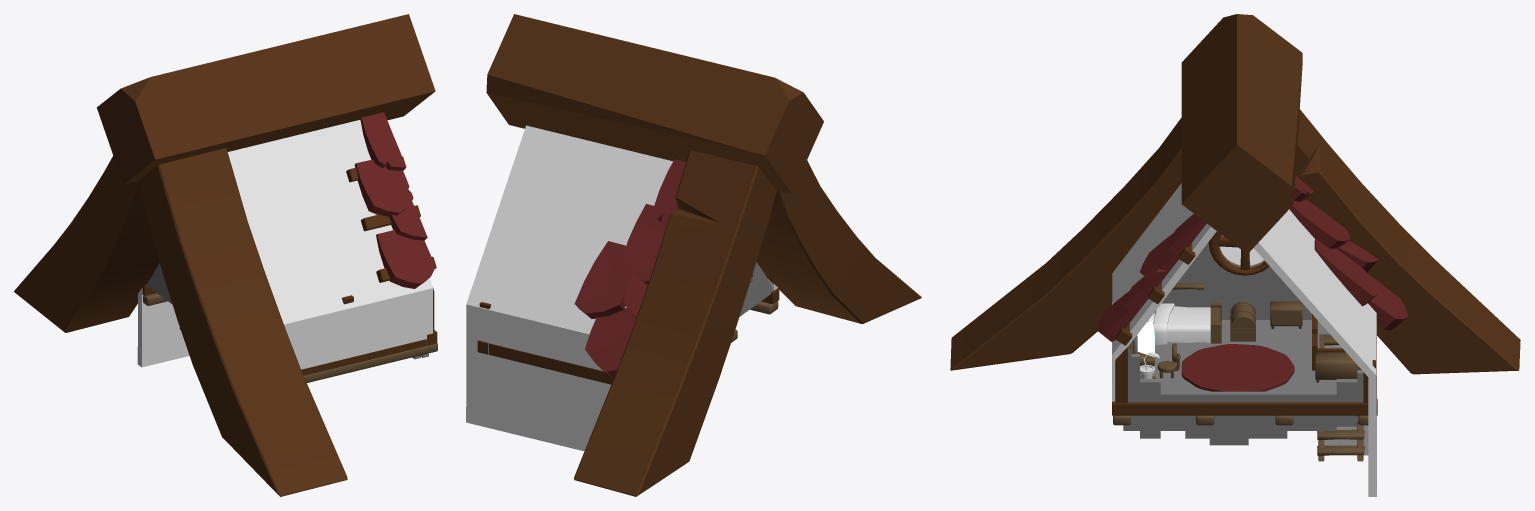
The model's file is InRoom.fbx.
3 renders of one model, left to right at view 1: azimuth 30°, elevation 25°; view 2: azimuth 150°, elevation 25°; view 3: azimuth 270°, elevation 25°, orthographic. The views are drawn at different scales.
Visible parts, largest first — view 1: Cubo.005, Cube.026, Plane.004, Cube.030, HideSun, Cube.032, Cube.027; view 2: Cubo.005, HideSun, Cube.026, Cube.113, Cube.027, Plane; view 3: Cubo.005, Cube.026, Plane, HideSun, Wall.005, Cube.113, Plane.004, Cylinder, Cube.029, Cube.030, Cube.017, Cube.035 (+6 smaller).
Boxes of the visible parts, box(x1,y1,x2,y2) form: Cubo.005: box(14, 148, 347, 496); Cube.026: box(96, 14, 435, 184); Plane.004: box(227, 120, 432, 369); Cube.030: box(354, 112, 435, 288); HideSun: box(137, 288, 189, 367); Cube.032: box(143, 293, 437, 382); Cube.027: box(142, 284, 426, 375); Cubo.005: box(574, 150, 921, 496); HideSun: box(466, 125, 672, 451); Cube.026: box(486, 14, 823, 193); Cube.113: box(574, 159, 685, 377); Cube.027: box(488, 288, 779, 384); Plane: box(739, 262, 773, 316); Cubo.005: box(950, 109, 1520, 374); Cube.026: box(1181, 14, 1302, 253); Plane: box(1140, 242, 1368, 455); HideSun: box(1254, 209, 1376, 496); Wall.005: box(1123, 349, 1363, 445); Cube.113: box(1289, 175, 1408, 330); Plane.004: box(1112, 183, 1216, 401); Cylinder: box(1181, 344, 1294, 391); Cube.029: box(1112, 398, 1377, 415); Cube.030: box(1096, 214, 1206, 341); Cube.017: box(1153, 303, 1210, 345); Cube.035: box(1315, 352, 1359, 382).
Bounding box in the file's own units: 8.69 × 10.44 × 14.78.
